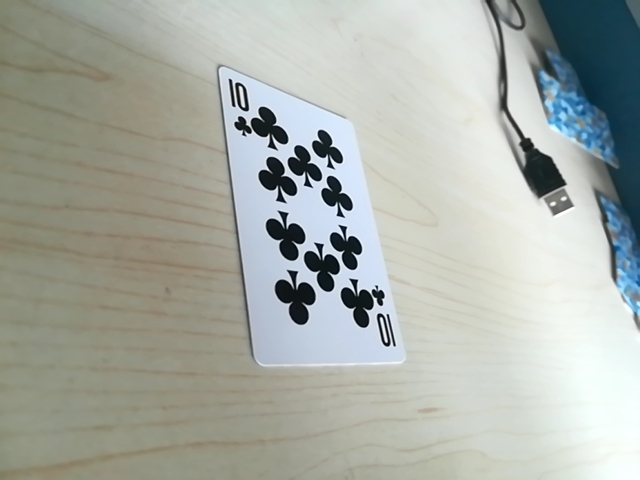mh 10: (224, 77, 268, 144), (362, 295, 391, 354)
